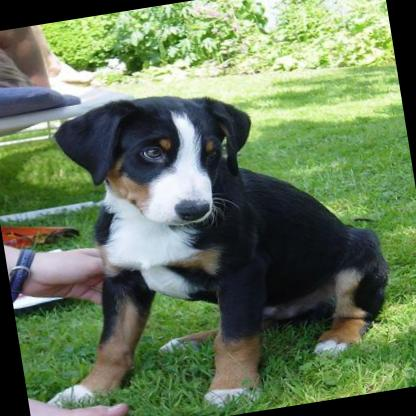Appenzeller: (1, 62, 405, 416)
